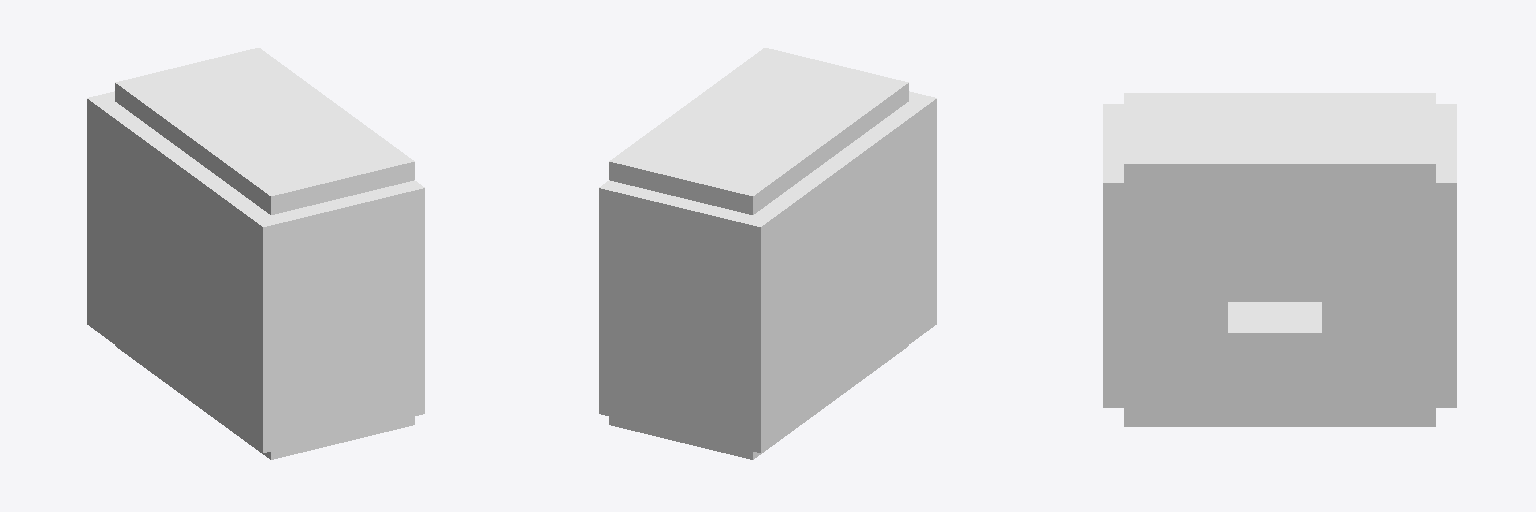
The model's file is cristal-8.obj.
3 renders of one model, left to right at view 1: azimuth 30°, elevation 25°; view 2: azimuth 150°, elevation 25°; view 3: azimuth 270°, elevation 25°, orthographic.
Visible parts, largest first — view 1: object 1; view 2: object 1; view 3: object 1.
Part boxes in pixels (bbox=[...]): object 1: bbox=[87, 48, 424, 459]; object 1: bbox=[599, 48, 936, 459]; object 1: bbox=[1103, 93, 1456, 426].
Size of the model in its own units: 1.8 by 2.8 by 3.4.